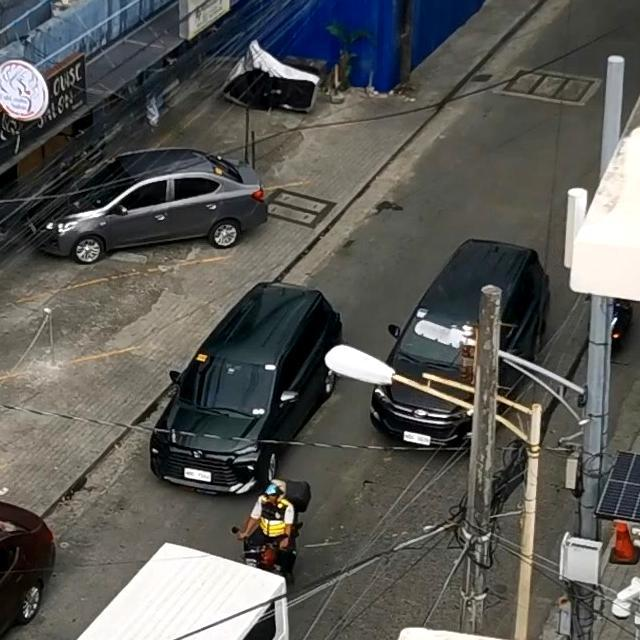Motorcycle: (210, 463, 322, 597)
